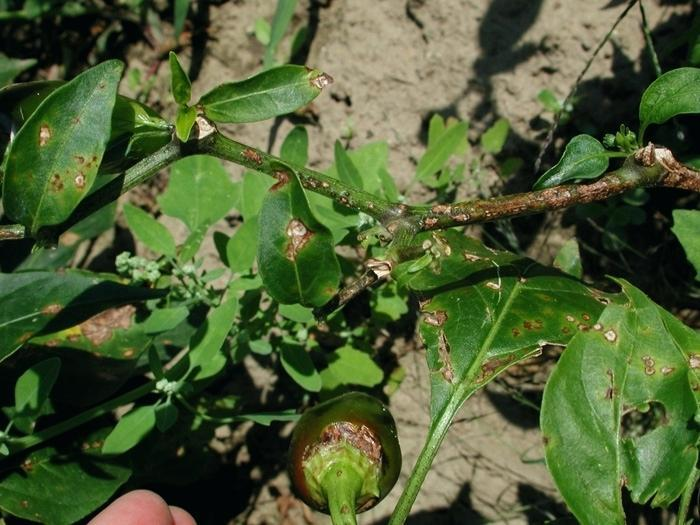Bell_pepper leaf: (403, 227, 612, 418), (540, 275, 695, 525), (3, 59, 128, 251), (249, 160, 347, 310), (200, 57, 338, 141)
